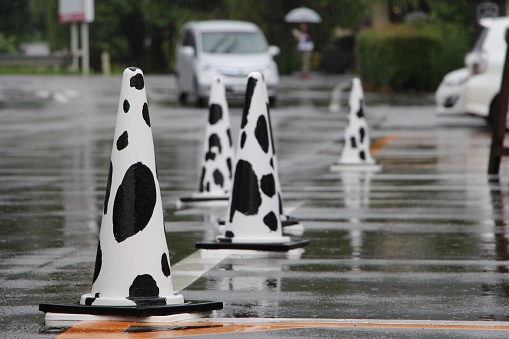trafficcone: (38, 67, 223, 317), (196, 72, 310, 250), (180, 74, 242, 201), (330, 77, 383, 170)
